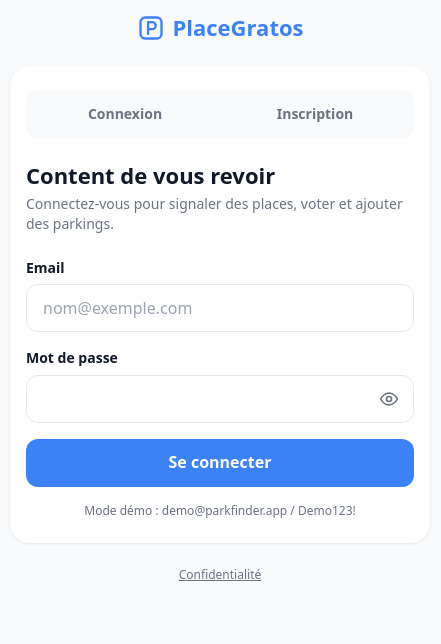
LoginPage › signale les champs manquants sous chaque champ
Click the button "Se connecter": x=220, y=463 [26,439,414,487]
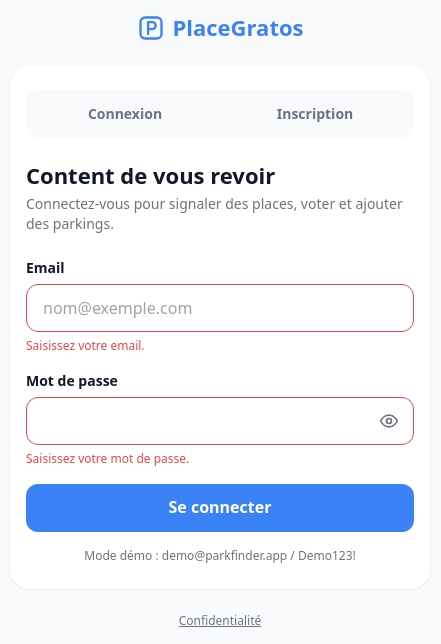
Check: the text "Saisissez votre email." is shown, box [26,337,145,354]
Check: the text "Saisissez votre mot de passe." is shown, box [26,450,189,468]
